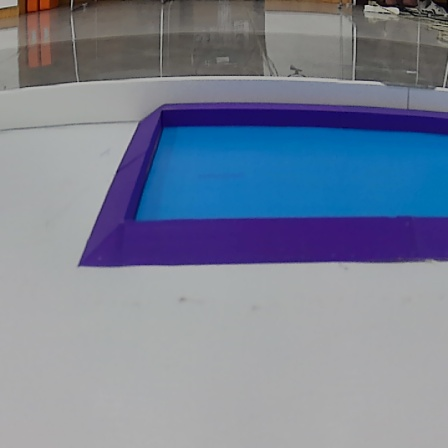blue_aim: (73, 98, 448, 273)
